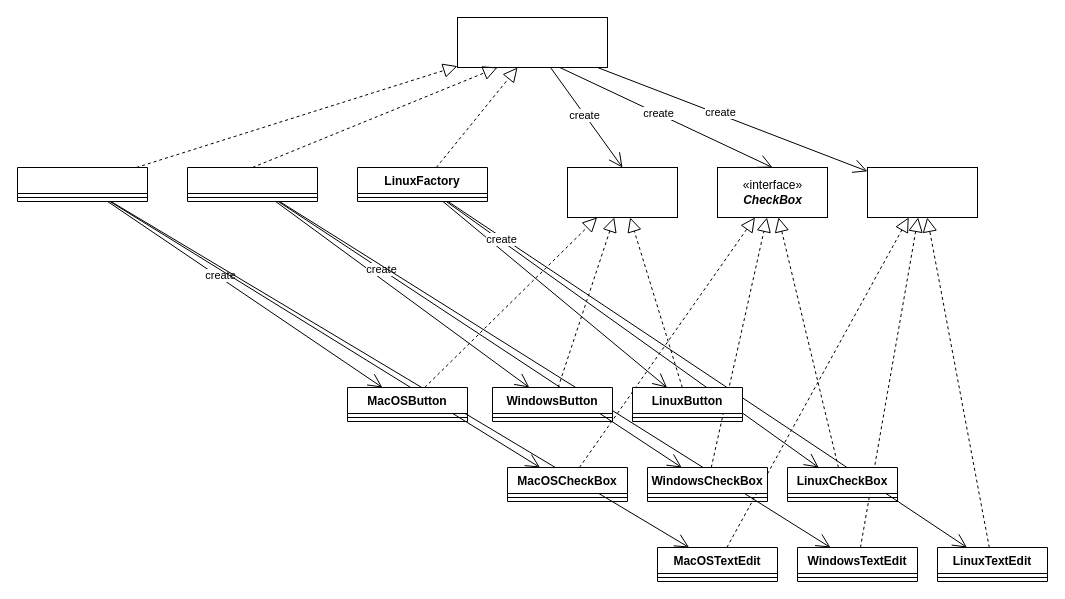
The diagram is 1065 pixels wide and 599 high, and some of its shapes have lost their labels. The centre of each missing label's shape, as x and y in pixels:
MacOSFactory: [82,184]
WindowsFactory: [252,184]
«interface» Button: [622,192]
«interface» ComponentFactory: [532,42]
«interface» TextEdit: [922,192]
